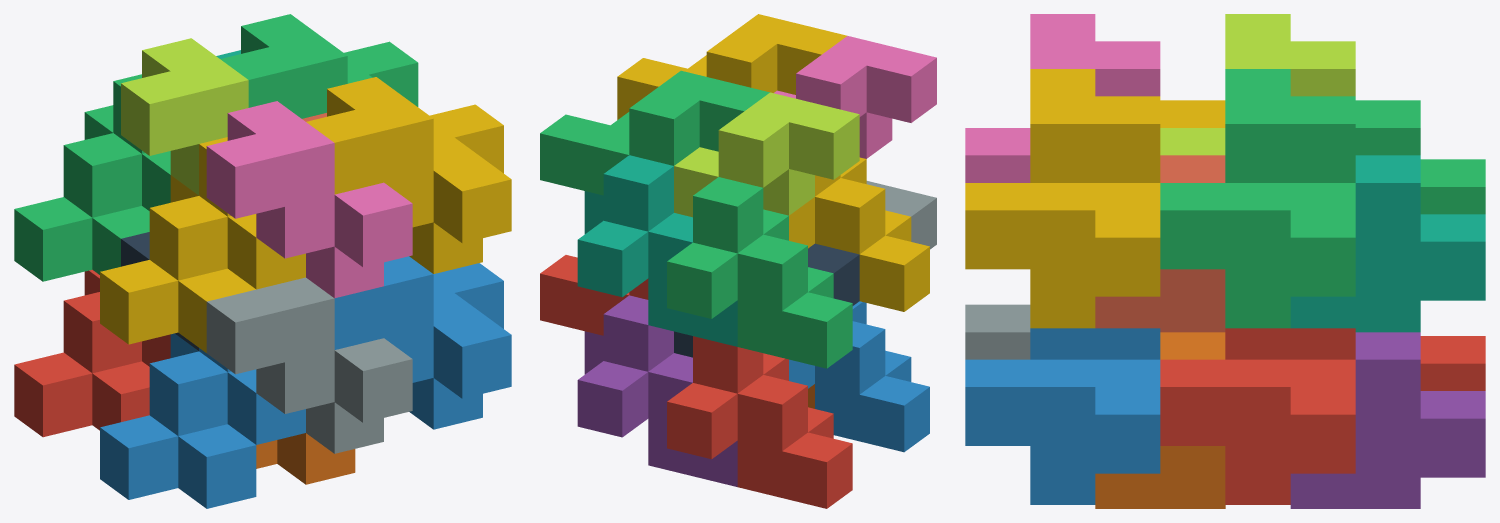
File: tiling.obj
3 views of the same model, side by side, from view 1: azimuth 30°, elevation 25°; view 2: azimuth 150°, elevation 25°; view 3: azimuth 270°, elevation 25° (orthographic). The views are drawn at different scales.
Visible parts, largest first — view 1: copy_2_domain_4, copy_2_domain_8, copy_2_domain_2, copy_1_domain_2, copy_2_domain_6, copy_1_domain_4, copy_1_domain_3, copy_1_domain_1, copy_2_domain_3, copy_2_domain_7, copy_1_domain_6, copy_2_domain_1; view 2: copy_1_domain_3, copy_1_domain_1, copy_1_domain_7, copy_2_domain_3, copy_1_domain_5, copy_2_domain_7, copy_1_domain_4, copy_1_domain_2, copy_2_domain_4, copy_2_domain_8, copy_2_domain_5, copy_2_domain_1 (+1 smaller); view 3: copy_2_domain_7, copy_2_domain_8, copy_2_domain_5, copy_2_domain_6, copy_1_domain_5, copy_1_domain_7, copy_2_domain_4, copy_2_domain_3, copy_1_domain_6, copy_1_domain_8, copy_1_domain_3, copy_2_domain_2 (+2 smaller).
Boxes of the visible parts, x1=… form: copy_2_domain_4: x1=206, y1=101, x2=412, y2=298; copy_2_domain_8: x1=306, y1=77, x2=511, y2=273; copy_2_domain_2: x1=206, y1=277, x2=412, y2=453; copy_1_domain_2: x1=100, y1=333, x2=305, y2=508; copy_2_domain_6: x1=334, y1=256, x2=511, y2=429; copy_1_domain_4: x1=100, y1=137, x2=305, y2=352; copy_1_domain_3: x1=14, y1=74, x2=170, y2=281; copy_1_domain_1: x1=14, y1=269, x2=170, y2=437; copy_2_domain_3: x1=121, y1=38, x2=248, y2=195; copy_2_domain_7: x1=220, y1=14, x2=418, y2=118; copy_1_domain_6: x1=256, y1=433, x2=355, y2=484; copy_2_domain_1: x1=121, y1=232, x2=198, y2=350; copy_1_domain_3: x1=667, y1=177, x2=852, y2=368; copy_1_domain_1: x1=667, y1=336, x2=852, y2=508; copy_1_domain_7: x1=577, y1=155, x2=737, y2=346; copy_2_domain_3: x1=674, y1=92, x2=859, y2=217; copy_1_domain_5: x1=577, y1=295, x2=737, y2=486; copy_2_domain_7: x1=540, y1=70, x2=769, y2=195; copy_1_domain_4: x1=789, y1=157, x2=929, y2=311; copy_1_domain_2: x1=789, y1=301, x2=929, y2=452; copy_2_domain_4: x1=774, y1=36, x2=936, y2=158; copy_2_domain_8: x1=617, y1=14, x2=847, y2=119; copy_2_domain_5: x1=540, y1=255, x2=648, y2=335; copy_2_domain_1: x1=674, y1=243, x2=859, y2=357; copy_2_domain_7: x1=1160, y1=69, x2=1355, y2=328; copy_2_domain_8: x1=965, y1=69, x2=1160, y2=328; copy_2_domain_5: x1=1160, y1=328, x2=1355, y2=504; copy_2_domain_6: x1=965, y1=328, x2=1160, y2=504; copy_1_domain_5: x1=1290, y1=332, x2=1485, y2=508; copy_1_domain_7: x1=1290, y1=155, x2=1485, y2=332; copy_2_domain_4: x1=965, y1=14, x2=1160, y2=182; copy_2_domain_3: x1=1160, y1=14, x2=1355, y2=155; copy_1_domain_6: x1=1095, y1=332, x2=1225, y2=508; copy_1_domain_8: x1=1095, y1=155, x2=1225, y2=332; copy_1_domain_3: x1=1355, y1=100, x2=1485, y2=214; copy_2_domain_2: x1=965, y1=304, x2=1030, y2=359.
Bounding box in the file's own units: 7 × 7 × 8.
